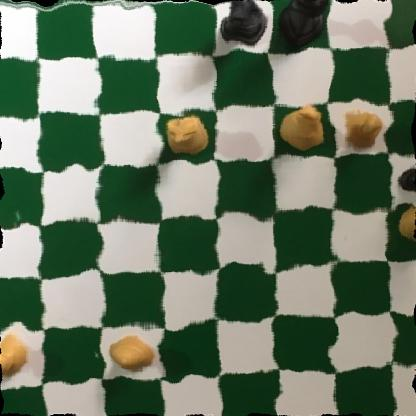black-king: (279, 0, 329, 50)
black-pawn: (397, 157, 416, 200)
black-rook: (219, 0, 265, 52)
white-king: (274, 100, 327, 155)
white-pawn: (335, 106, 385, 152), (108, 331, 158, 376), (0, 332, 34, 376), (397, 203, 416, 247)
white-rook: (161, 107, 211, 158)
